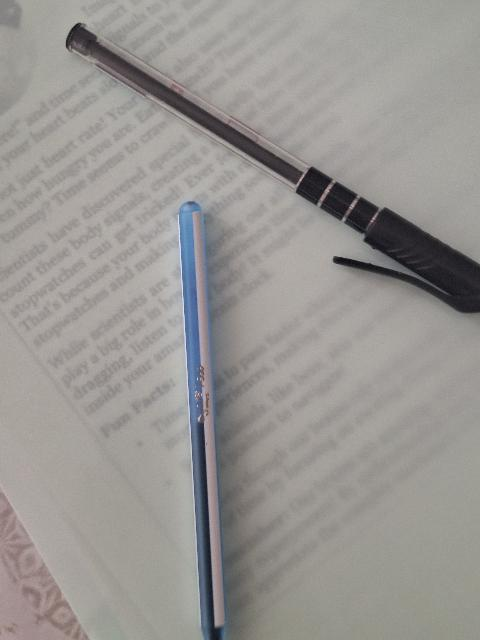writing_tool: (64, 19, 480, 317), (176, 198, 230, 639)
